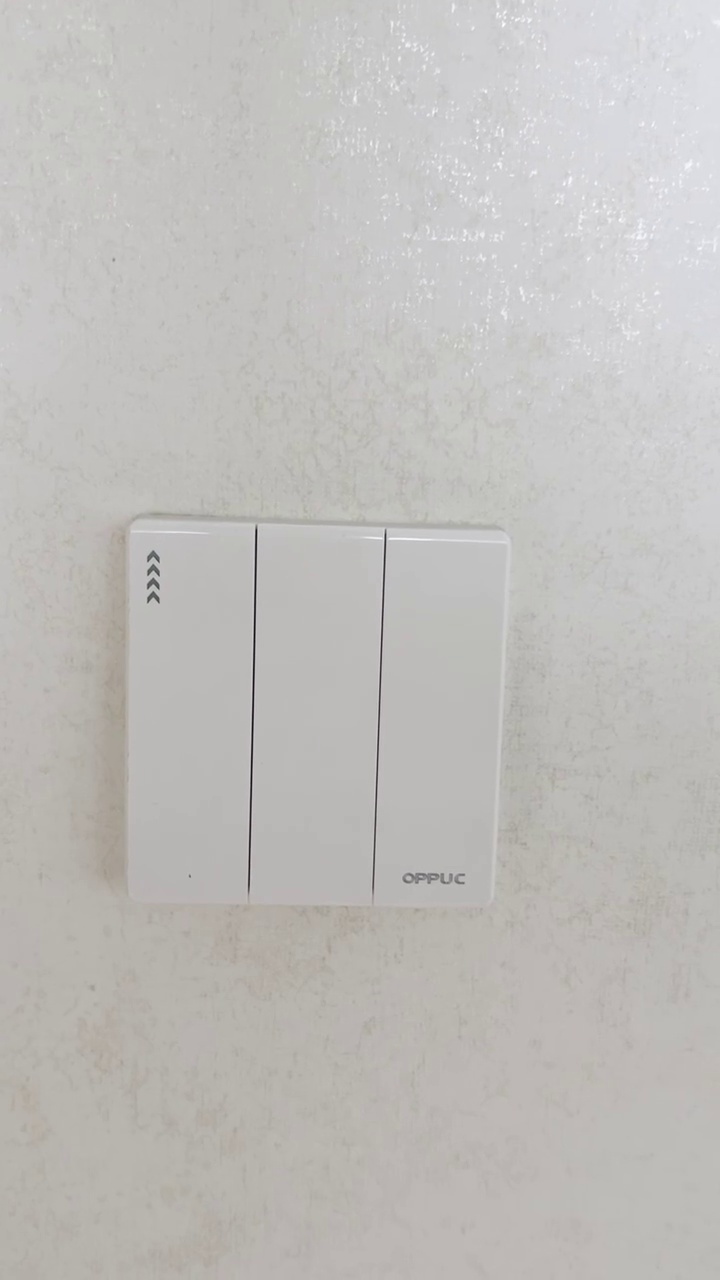button1: (127, 527, 251, 891), (255, 532, 374, 895), (382, 536, 497, 904)
